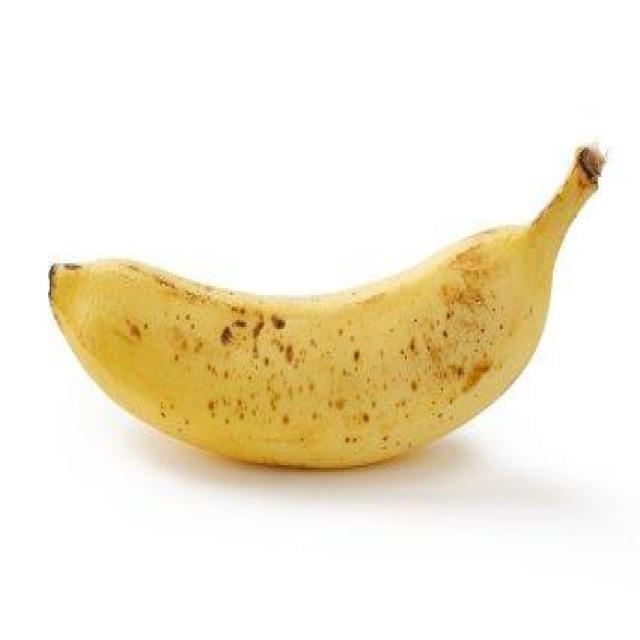banana: (39, 121, 619, 483)
